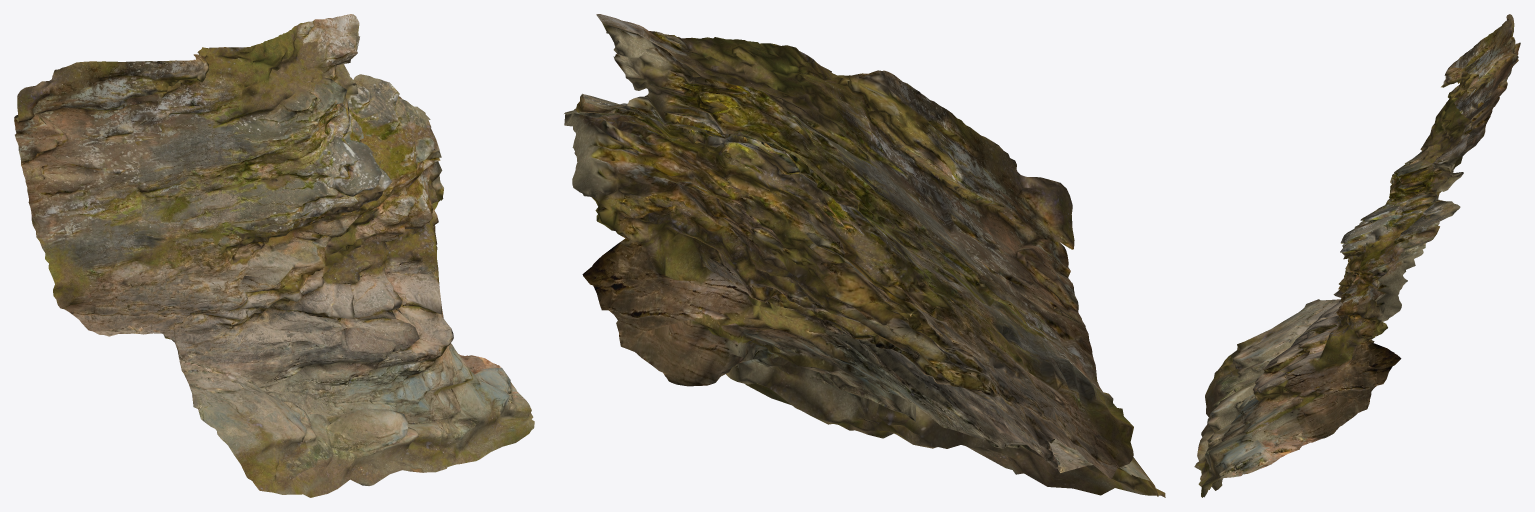
File: rock_face_b.glb
The picture shows the model from 3 angles, left to right: view 1: azimuth 30°, elevation 25°; view 2: azimuth 150°, elevation 25°; view 3: azimuth 270°, elevation 25°; orthographic projection. The views are drawn at different scales.
Parts seen in each view (by area): view 1: rock_face_02; view 2: rock_face_02; view 3: rock_face_02.
Boxes of the visible parts, x1,y1,x2,y2 form: rock_face_02: (14,14,534,497); rock_face_02: (564,14,1165,497); rock_face_02: (1194,14,1520,497).
Bounding box in the file's own units: 2.71 × 2.48 × 2.13.
Materials: 1 (1 with a texture image).
